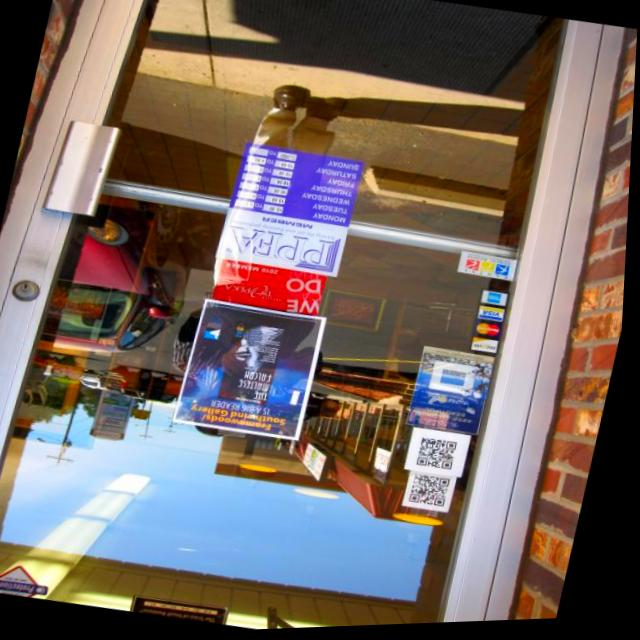qrcode: (414, 475, 455, 510), (421, 440, 462, 474)
